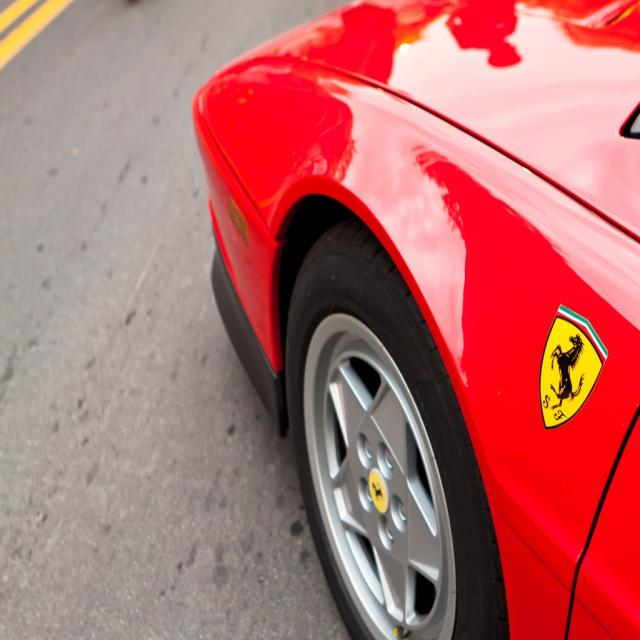ferrari: (537, 302, 611, 435)
